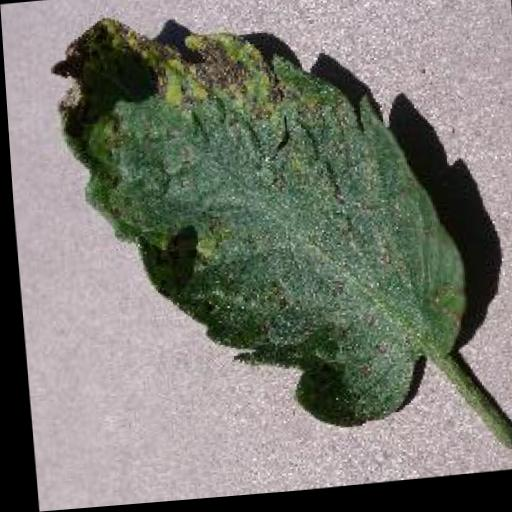Septoria: (45, 0, 471, 458)
